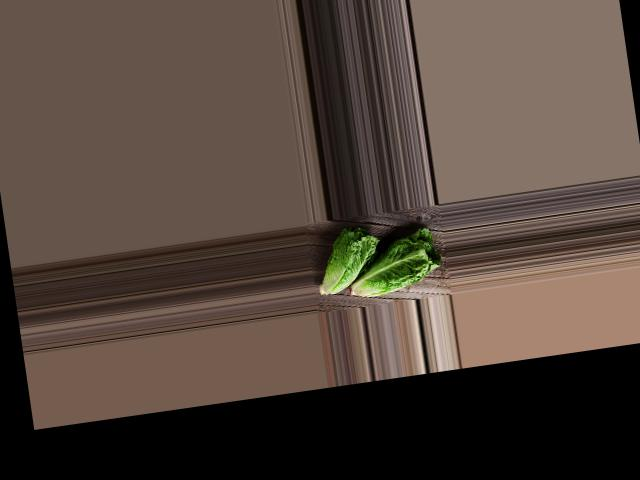lettuce: (306, 217, 387, 299)
